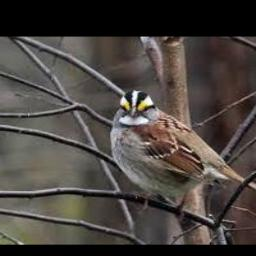Sparrow: (110, 90, 256, 211)
